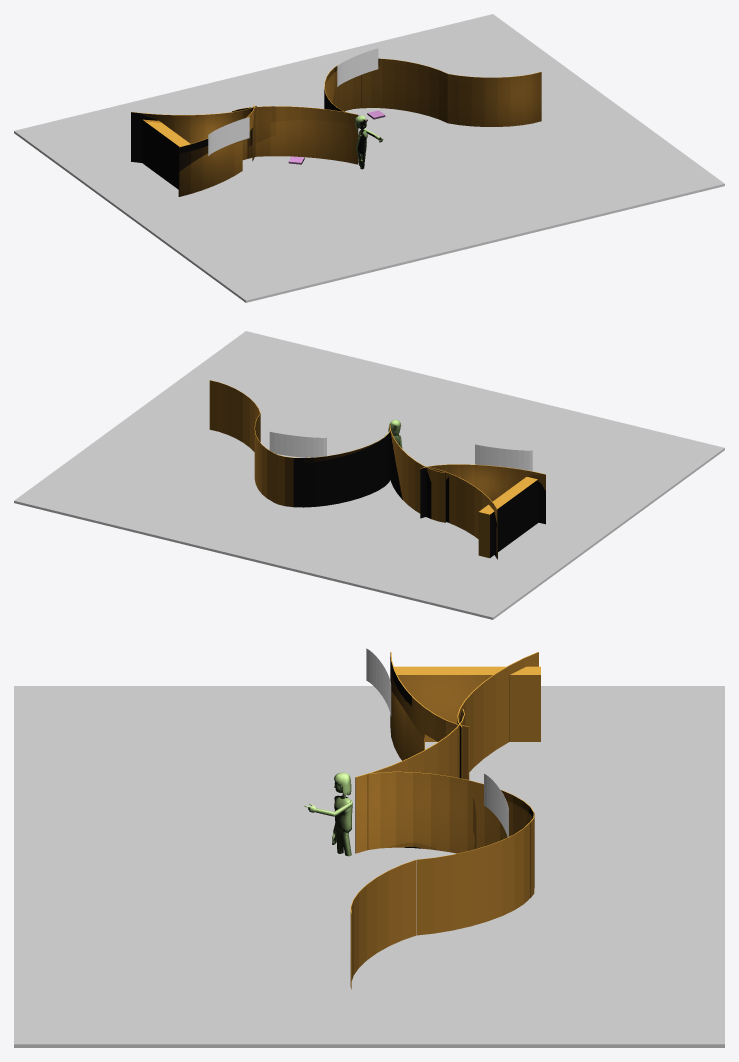
Rendered from set.dae.
3 views of the same model, one above another, from view 1: azimuth 30°, elevation 25°; view 2: azimuth 150°, elevation 25°; view 3: azimuth 270°, elevation 25° (orthographic). The views are drawn at different scales.
Parts seen in each view (by area): view 1: Cube, walls_005, Cylinder_001, Cylinder, root_042; view 2: Cube, walls_005, Cylinder, Cylinder_001; view 3: Cube, walls_005, root_042, Cylinder_001, Cylinder.
Part boxes in pixels (x1,y1,x2,y2): Cube: (14, 14, 724, 302); walls_005: (131, 58, 541, 196); Cylinder_001: (208, 117, 249, 155); Cylinder: (337, 48, 378, 86); root_042: (355, 115, 383, 169); Cube: (14, 331, 724, 619); walls_005: (209, 380, 545, 559); Cylinder: (269, 431, 326, 457); Cylinder_001: (475, 444, 532, 471); Cube: (14, 686, 724, 1047); walls_005: (350, 652, 540, 989); root_042: (304, 772, 352, 856); Cylinder_001: (366, 648, 391, 716); Cylinder: (484, 773, 508, 836).
Size of the model in its own units: 83.89 by 70.36 by 15.19.
5 materials, 3 textured.
